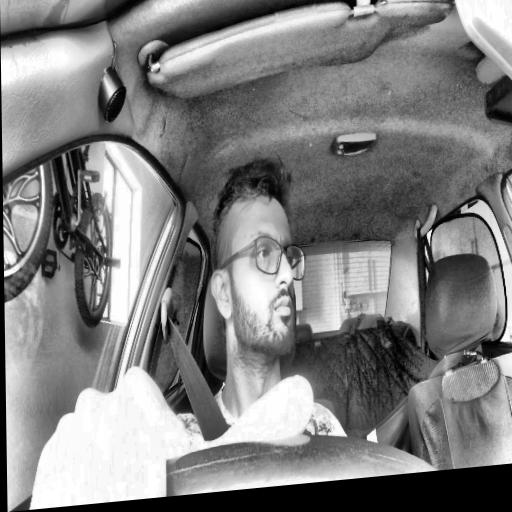awake: (209, 153, 307, 373)
